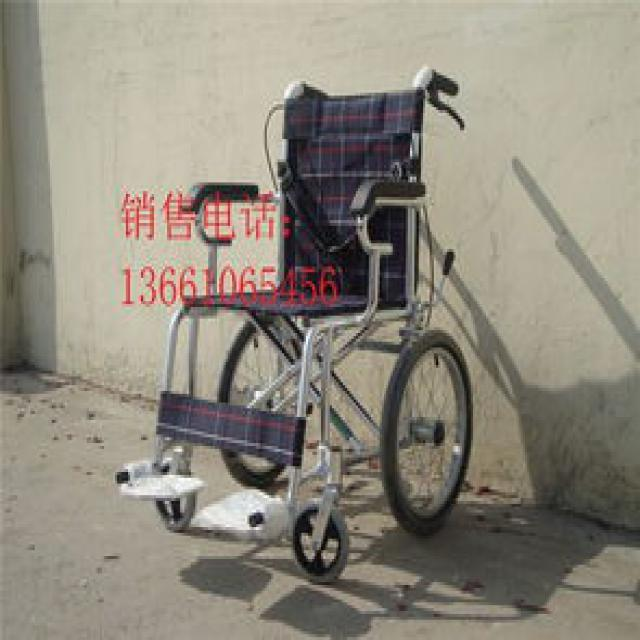wheelchair: (124, 66, 468, 554)
